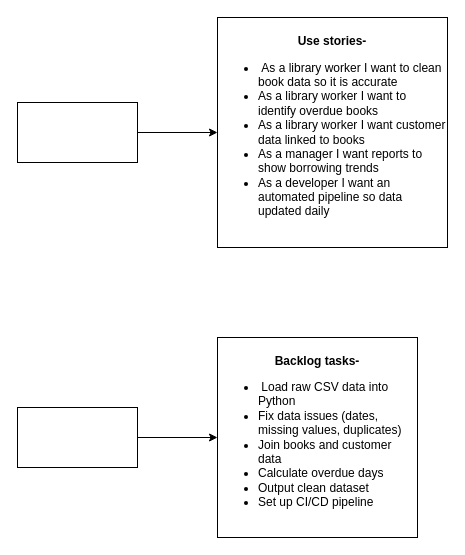
Some shapes in this 465 by 555 pixel diagram are drawn without their labels. Here are the shapes that lost their labels. From the top down, the centre of each, then its label:
At pixel 77 132: "Use stories-".
At pixel 77 437: "Backlog tasks-".
